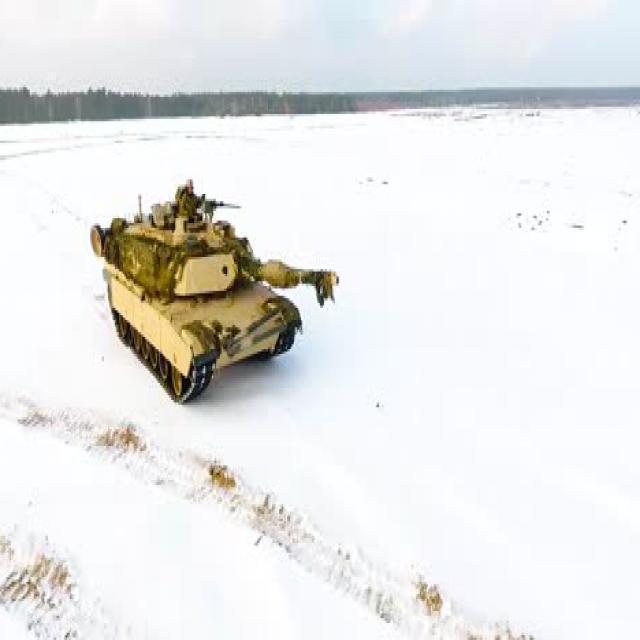Tanks: (90, 176, 339, 408)
